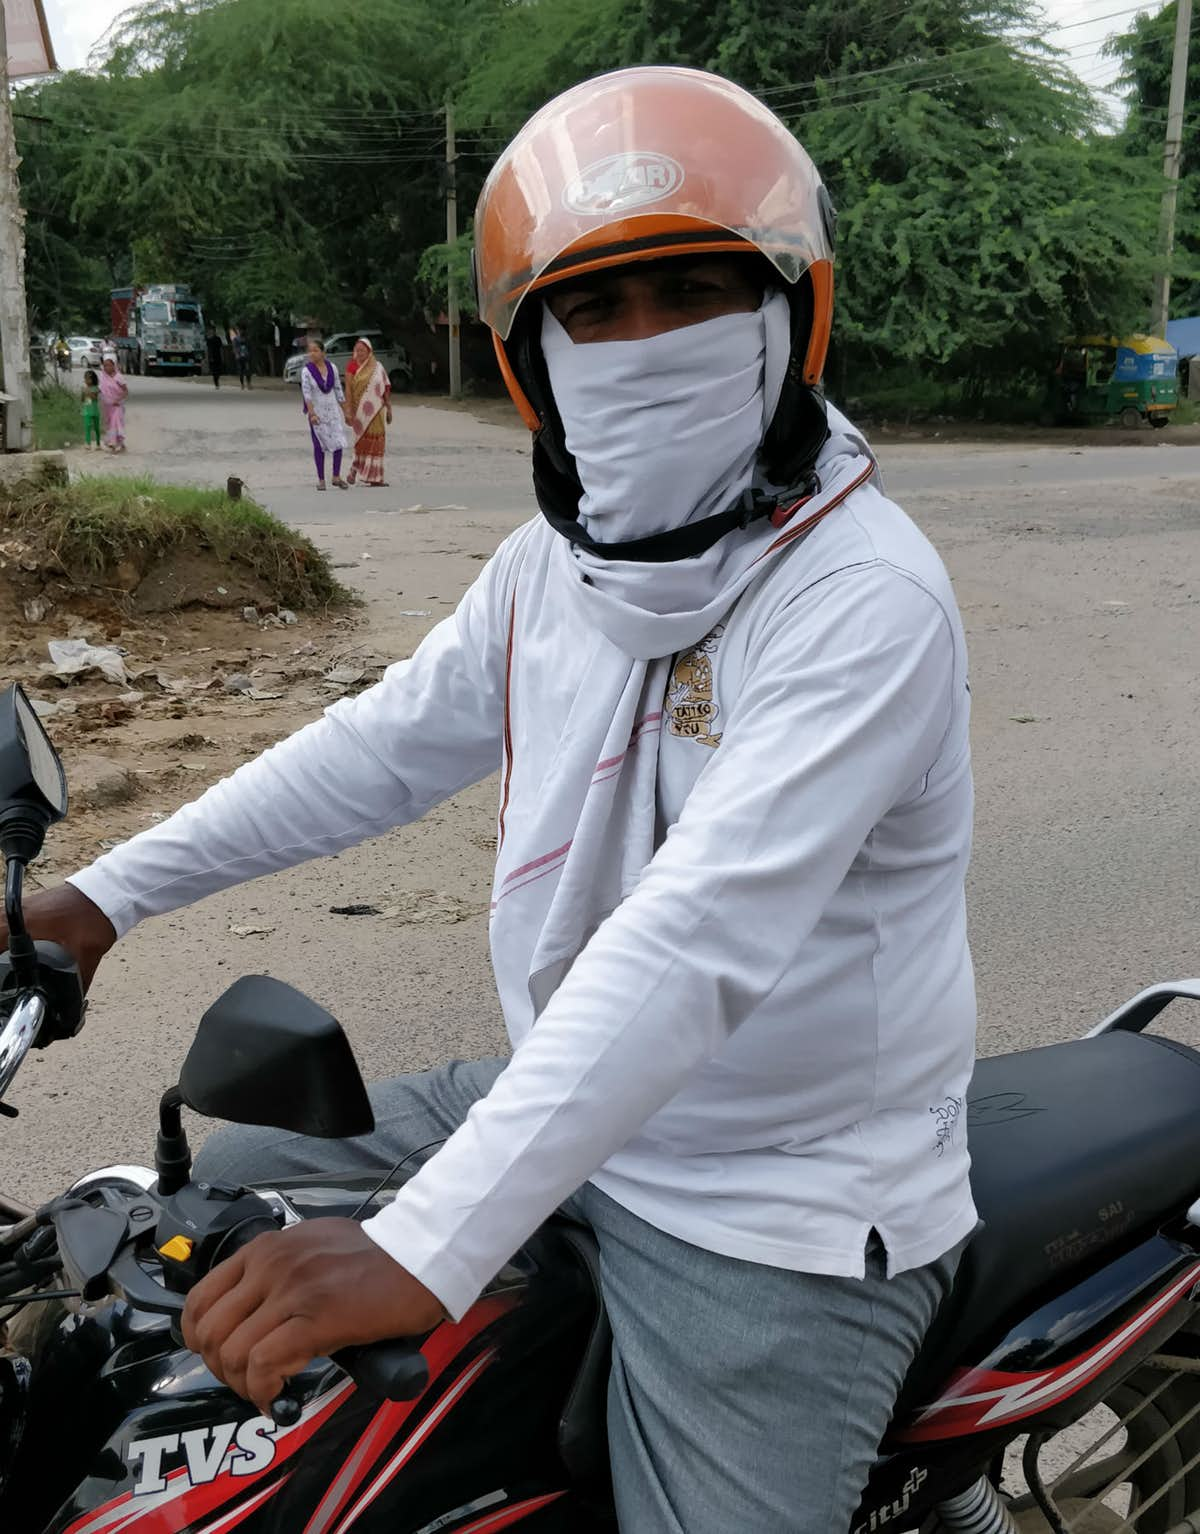helmet: (472, 62, 834, 433)
